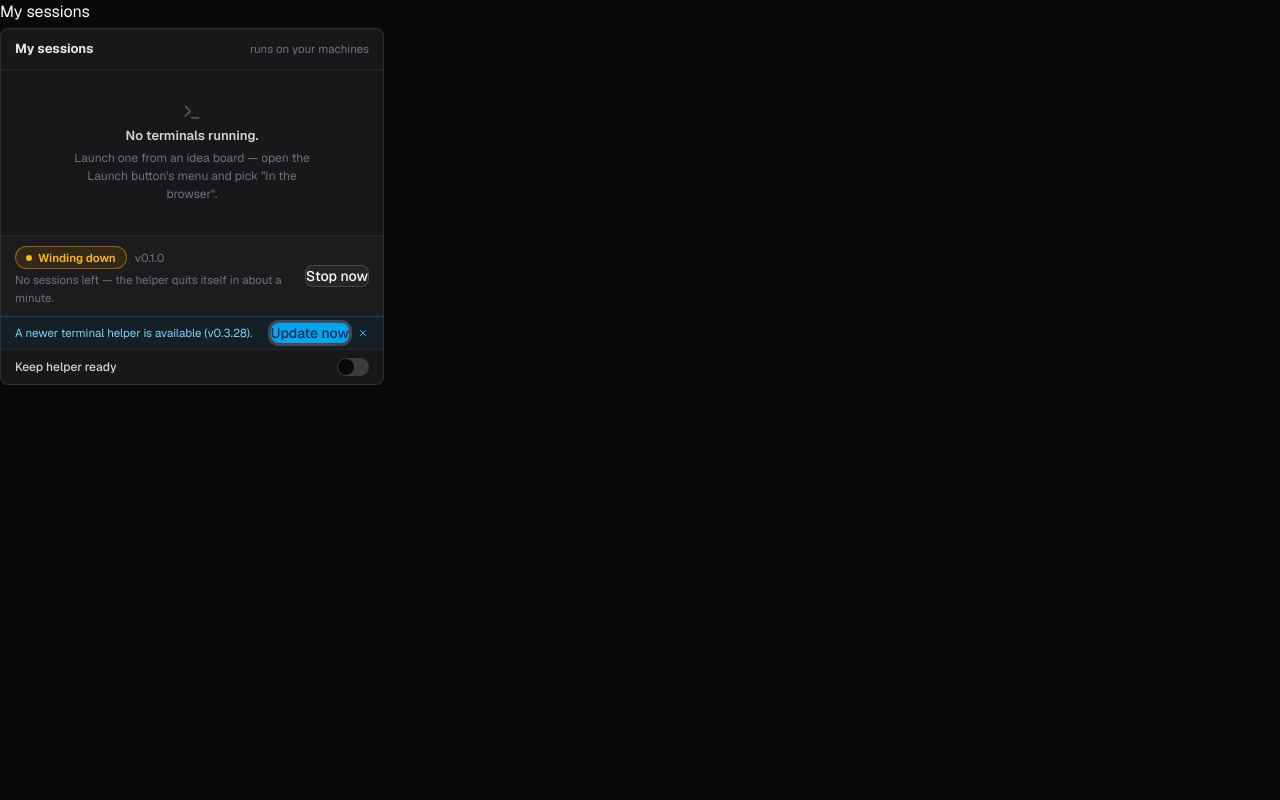
Test case: TerminalMySessionsPanel — Update now (shared quiesce-then-download flow) › quiesce-timeout: the poll never settles, but the flow still proceeds and downloads regardless
Click the button "Update now" at (310,333), box [271,323,349,343]
Wait 10000 ms
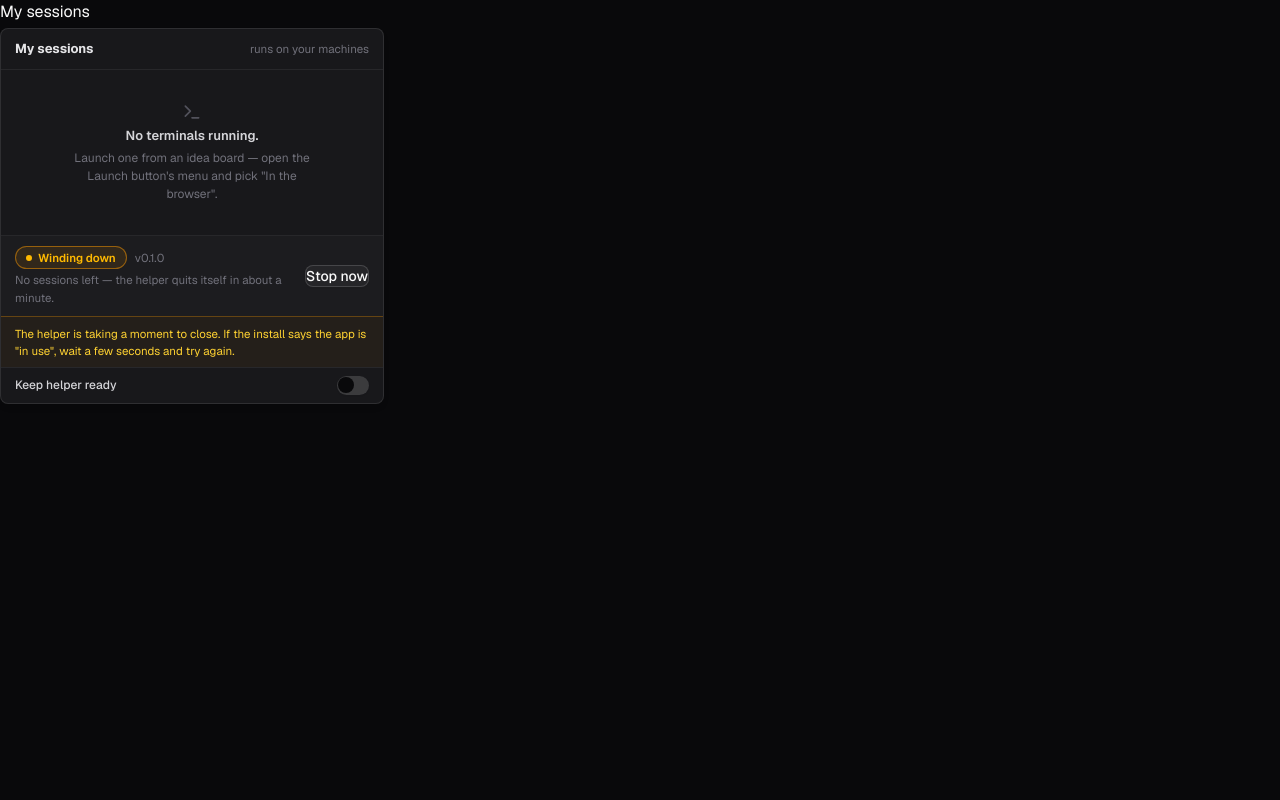
Result: the text "The helper is taking a moment to close" is shown at [15,326,366,358]
